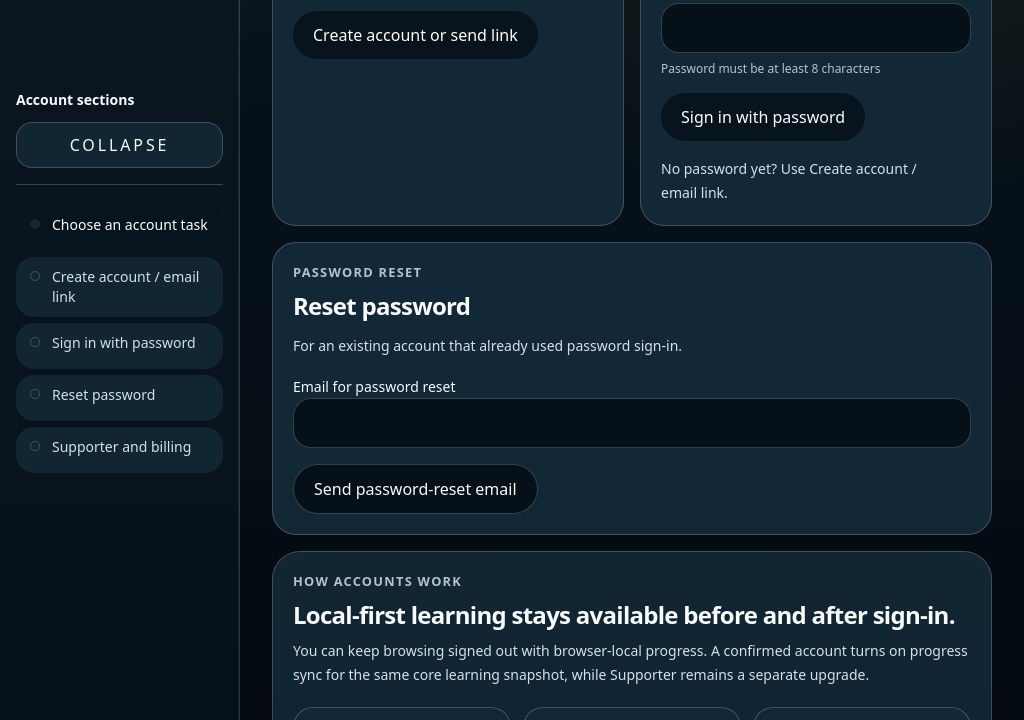
Test case: AccountPagePanel › shows a clear forgot-password failure state
This screenshot has width=1024, height=720.
(page scrolled)
Type "student@example.com" into the field labelled "Email for password reset".
click(632, 423); type("student@example.com")  # box [293,398,971,448]
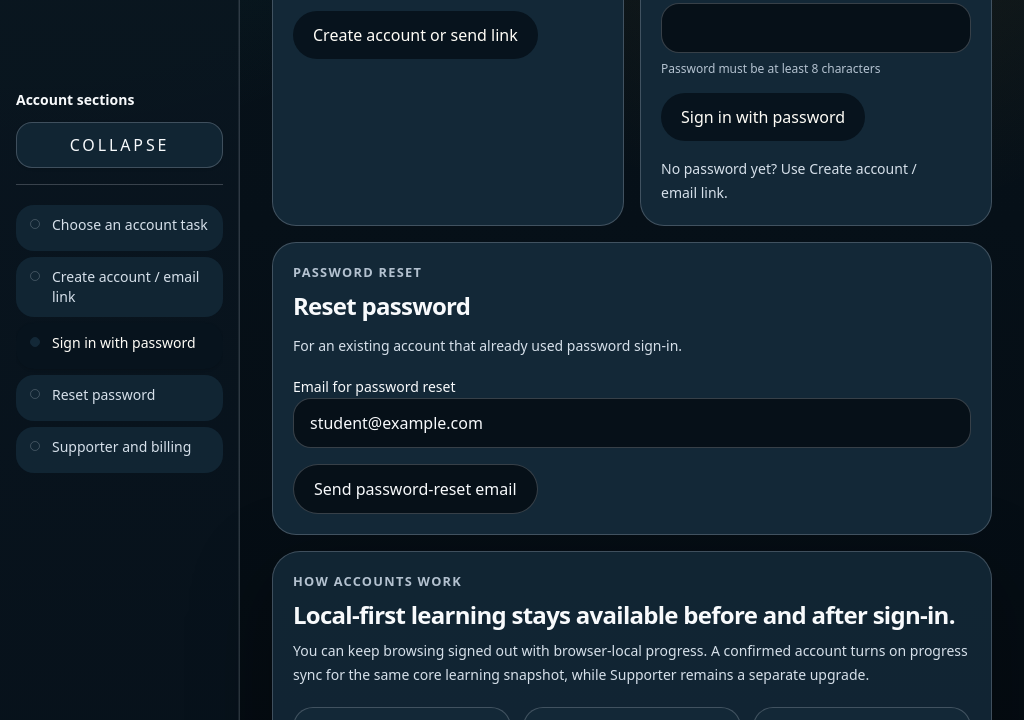
Click the button "Send password-reset email".
click(415, 489)  # box [293,464,538,514]
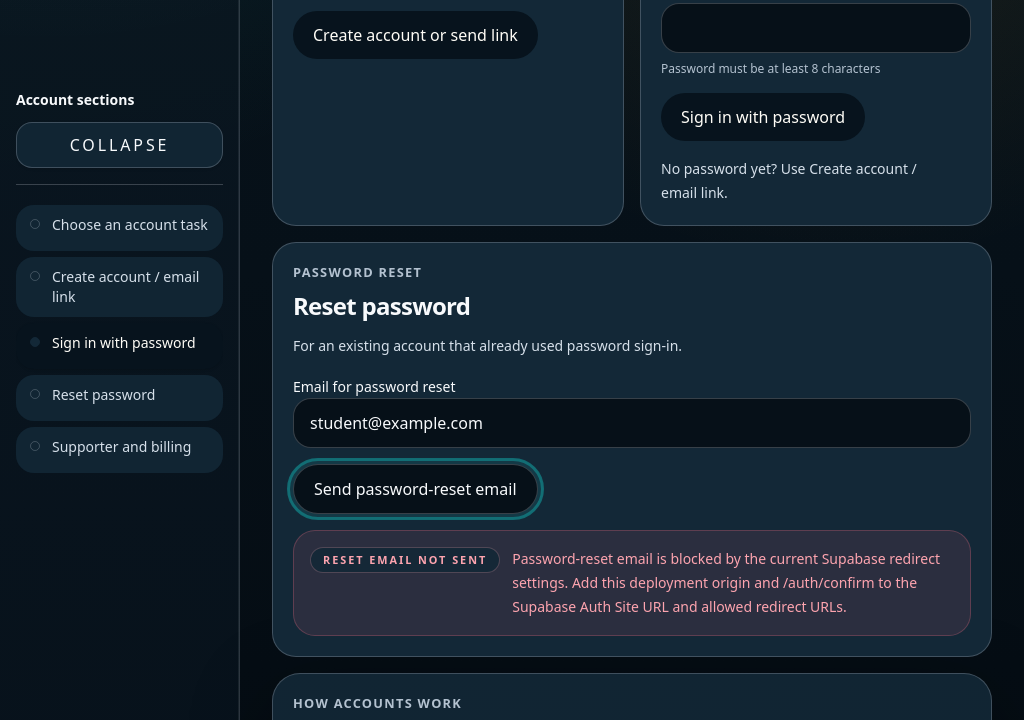
Check: the message shows "supabase redirect settings", box [512,549,940,616]
Check: the message shows "/auth/confirm", box [512,549,940,616]
